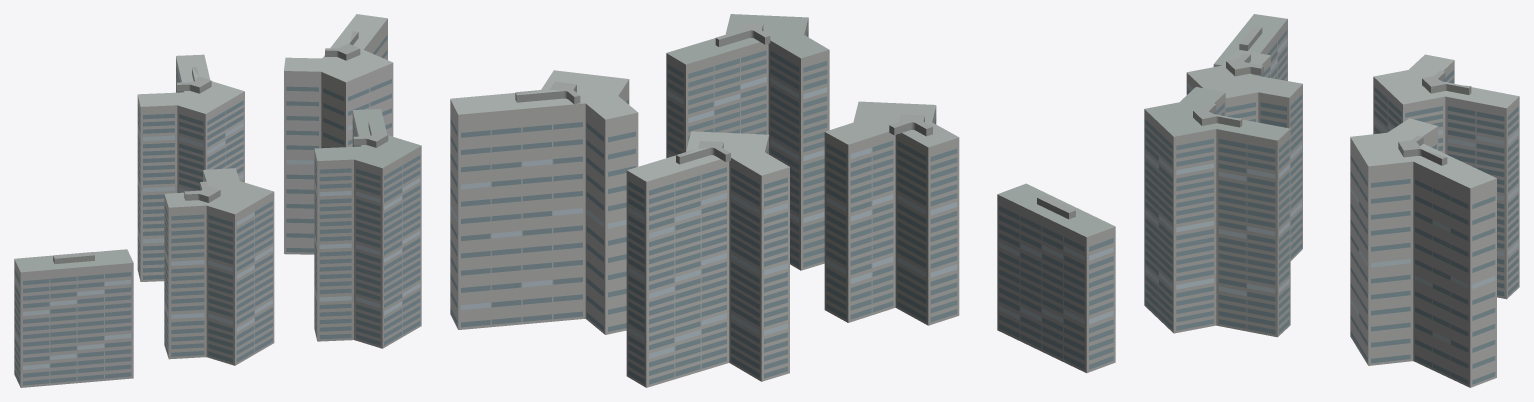
File: apt-a10027755.glb
3 renders of one model, left to right at view 1: azimuth 30°, elevation 25°; view 2: azimuth 150°, elevation 25°; view 3: azimuth 270°, elevation 25°, orthographic. The views are drawn at different scales.
Parts seen in each view (by area): view 1: apt-a10027755; view 2: apt-a10027755; view 3: apt-a10027755.
Boxes of the visible parts, x1=… form: apt-a10027755: x1=14, y1=14, x2=421, y2=387; apt-a10027755: x1=450, y1=14, x2=1115, y2=387; apt-a10027755: x1=1144, y1=14, x2=1519, y2=387.
Bounding box in the file's own units: 186 × 72 × 119.
